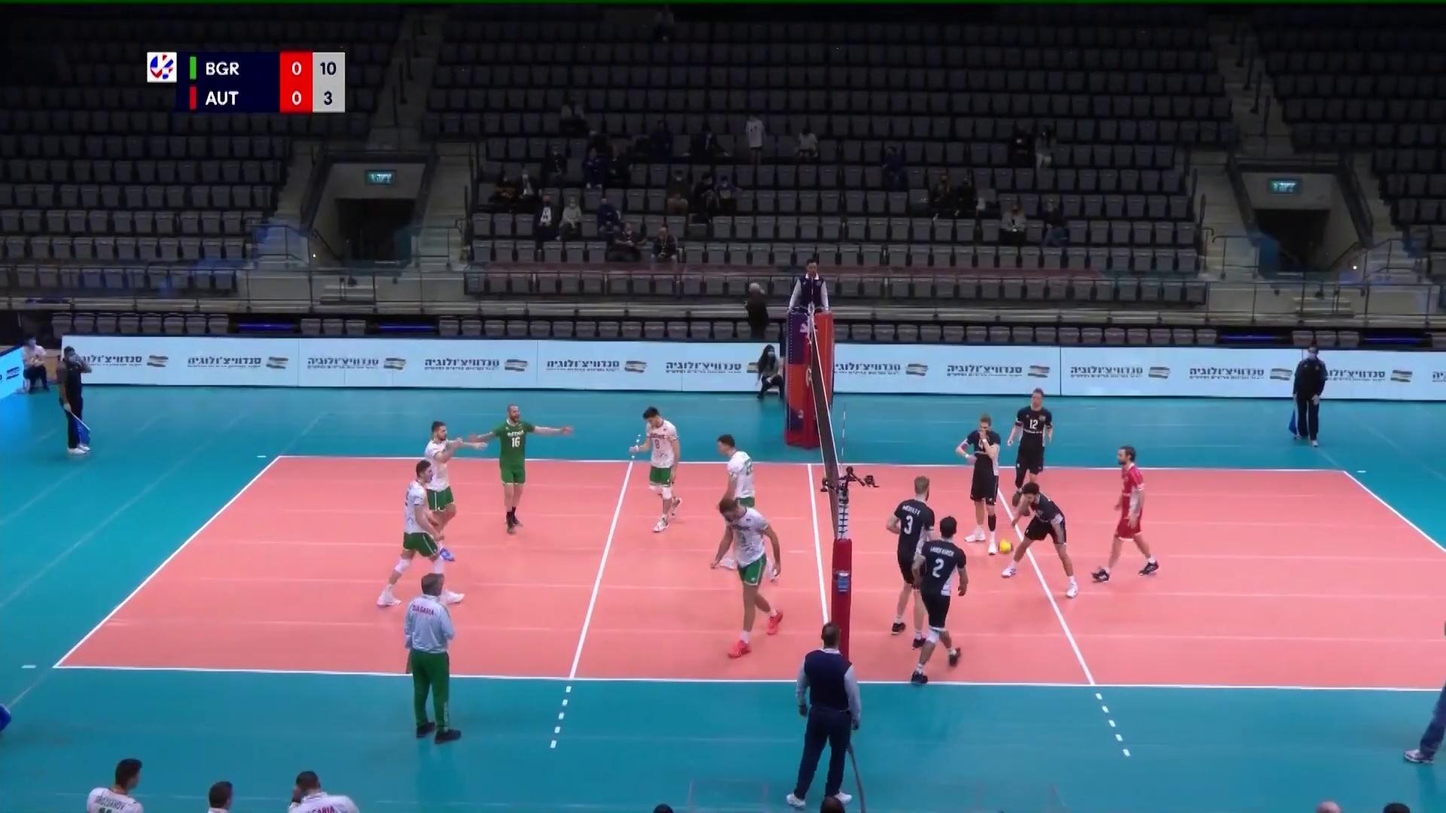ball: (998, 540, 1014, 554)
